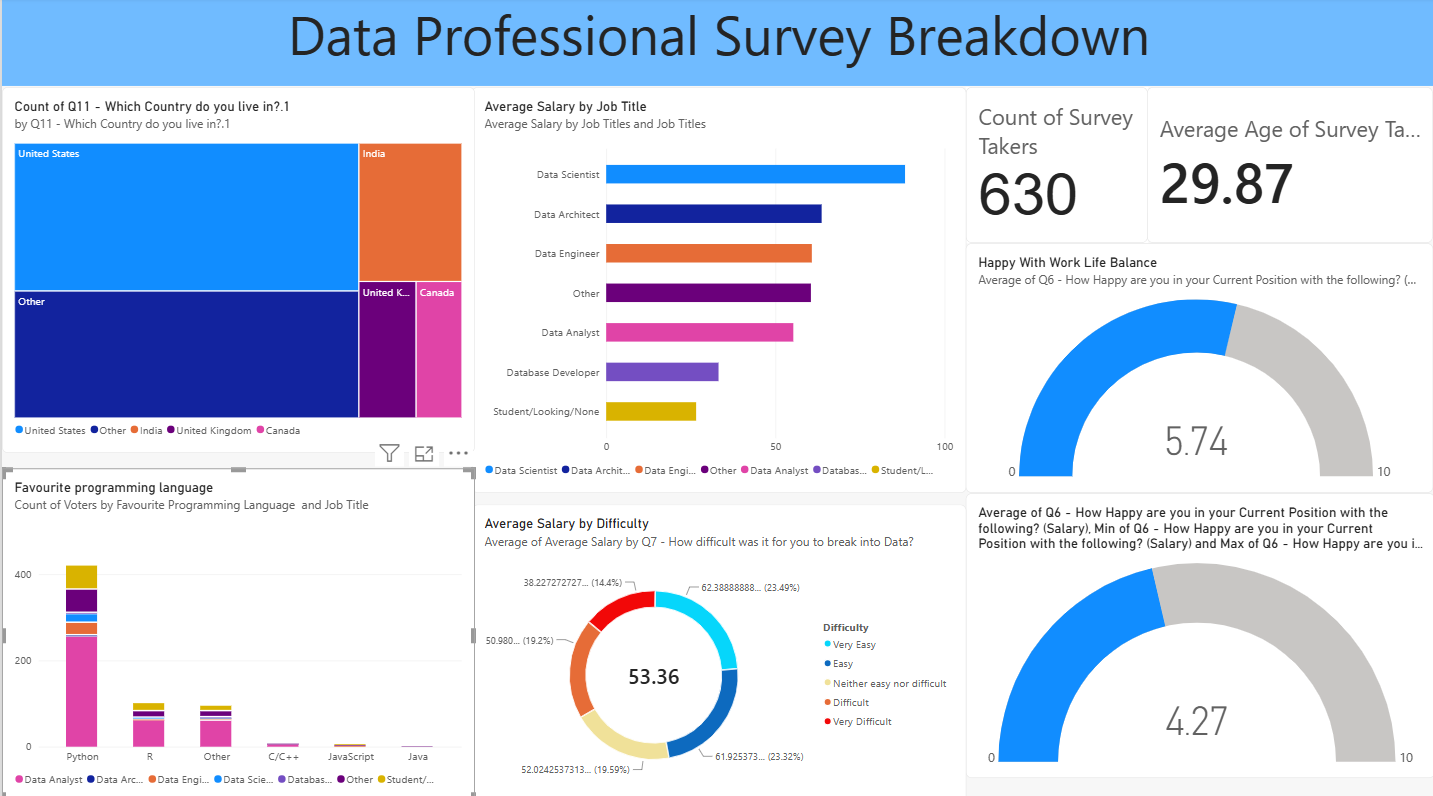

The dashboard page shown, as its layout file describes it:
{"tool":"powerbi","page":{"name":"Page 1","canvas":[1920,1080],"ordinal":0},"visuals":[{"type":"textbox","box":[0,0,1921.2,118.9],"z":0},{"type":"cardVisual","fields":{"Data":["CountNonNull(Data Professional Survey.Unique ID)"]},"box":[1291.5,120.4,244.9,209.9],"z":1000},{"type":"cardVisual","fields":{"Data":["Avg(Data Professional Survey.Q10 - Current Age)"]},"box":[1534.9,120.3,383.7,209.3],"z":2000},{"type":"barChart","title":"Average Salary by Job Title","fields":{"Category":["Data Professional Survey.Q1 - Which Title Best Fits your Current Role?.1"],"Series":["Data Professional Survey.Q1 - Which Title Best Fits your Current Role?.1"],"Y":["Avg(Data Professional Survey.Average Salary)"]},"box":[629,120.4,662.5,544.2],"z":3000},{"type":"columnChart","title":"Favourite programming language","fields":{"Category":["Data Professional Survey.Q5 - Favorite Programming Language.1"],"Series":["Data Professional Survey.Q1 - Which Title Best Fits your Current Role?.1"],"Y":["CountNonNull(Data Professional Survey.Unique ID)"]},"box":[0,631.2,633.5,448.3],"z":4000},{"type":"treemap","fields":{"Group":["Data Professional Survey.Q11 - Which Country do you live in?.1"],"Values":["CountNonNull(Data Professional Survey.Q11 - Which Country do you live in?.1)"]},"box":[0,120.4,633.5,490.7],"z":5000},{"type":"gauge","title":"Happy With Work Life Balance","fields":{"MaxValue":["Max(Data Professional Survey.Q6 - How Happy are you in your Current Position with the following? (Work/Life Balance))1"],"MinValue":["Min(Data Professional Survey.Q6 - How Happy are you in your Current Position with the following? (Work/Life Balance))"],"Y":["Avg(Data Professional Survey.Q6 - How Happy are you in your Current Position with the following? (Work/Life Balance))"]},"box":[1291.5,330.1,626.8,334.6],"z":5001},{"type":"gauge","fields":{"MaxValue":["Max(Data Professional Survey.Q6 - How Happy are you in your Current Position with the following? (Salary))1"],"MinValue":["Min(Data Professional Survey.Q6 - How Happy are you in your Current Position with the following? (Salary))"],"Y":["Avg(Data Professional Survey.Q6 - How Happy are you in your Current Position with the following? (Salary))"]},"box":[1291.5,664.7,629,381.4],"z":5002},{"type":"donutChart","title":"Average Salary by Difficulty","fields":{"Category":["Data Professional Survey.Q7 - How difficult was it for you to break into Data?"],"Y":["Avg(Data Professional Survey.Average Salary)"]},"box":[629,680.3,662.5,399.3],"z":5003}]}

Visuals, with their boxes in screenshot pixels (x1, y1, x2, y2), scaled from the page's 1920x1080 canvas onto the 1433x796 screenshot:
textbox: {"left": 0, "top": 0, "right": 1432, "bottom": 88}
cardVisual - CountNonNull(Data Professional Survey.Unique ID): {"left": 964, "top": 89, "right": 1147, "bottom": 243}
cardVisual - Avg(Data Professional Survey.Q10 - Current Age): {"left": 1146, "top": 89, "right": 1432, "bottom": 243}
"Average Salary by Job Title" barChart: {"left": 469, "top": 89, "right": 964, "bottom": 490}
"Favourite programming language" columnChart: {"left": 0, "top": 465, "right": 473, "bottom": 795}
treemap - Data Professional Survey.Q11 - Which Country do you live in?.1 x CountNonNull(Data Professional Survey.Q11 - Which Country do you live in?.1): {"left": 0, "top": 89, "right": 473, "bottom": 450}
"Happy With Work Life Balance" gauge: {"left": 964, "top": 243, "right": 1432, "bottom": 490}
gauge - Max(Data Professional Survey.Q6 - How Happy are you in your Current Position with the following? (Salary))1 x Min(Data Professional Survey.Q6 - How Happy are you in your Current Position with the following? (Salary)): {"left": 964, "top": 490, "right": 1432, "bottom": 771}
"Average Salary by Difficulty" donutChart: {"left": 469, "top": 501, "right": 964, "bottom": 795}
